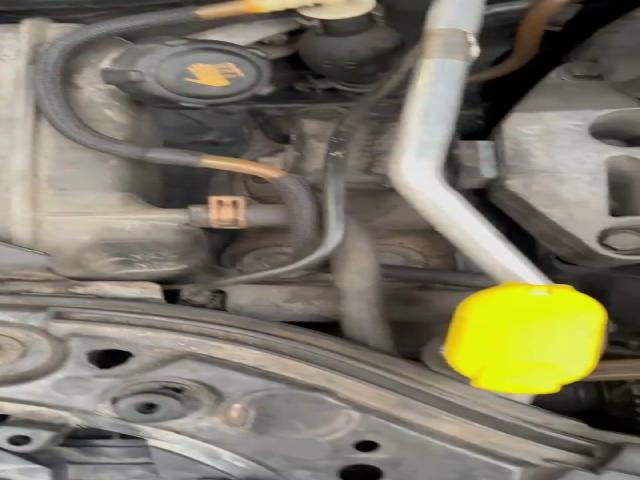antifreeze_tank: (4, 21, 208, 280), (68, 37, 272, 144)
